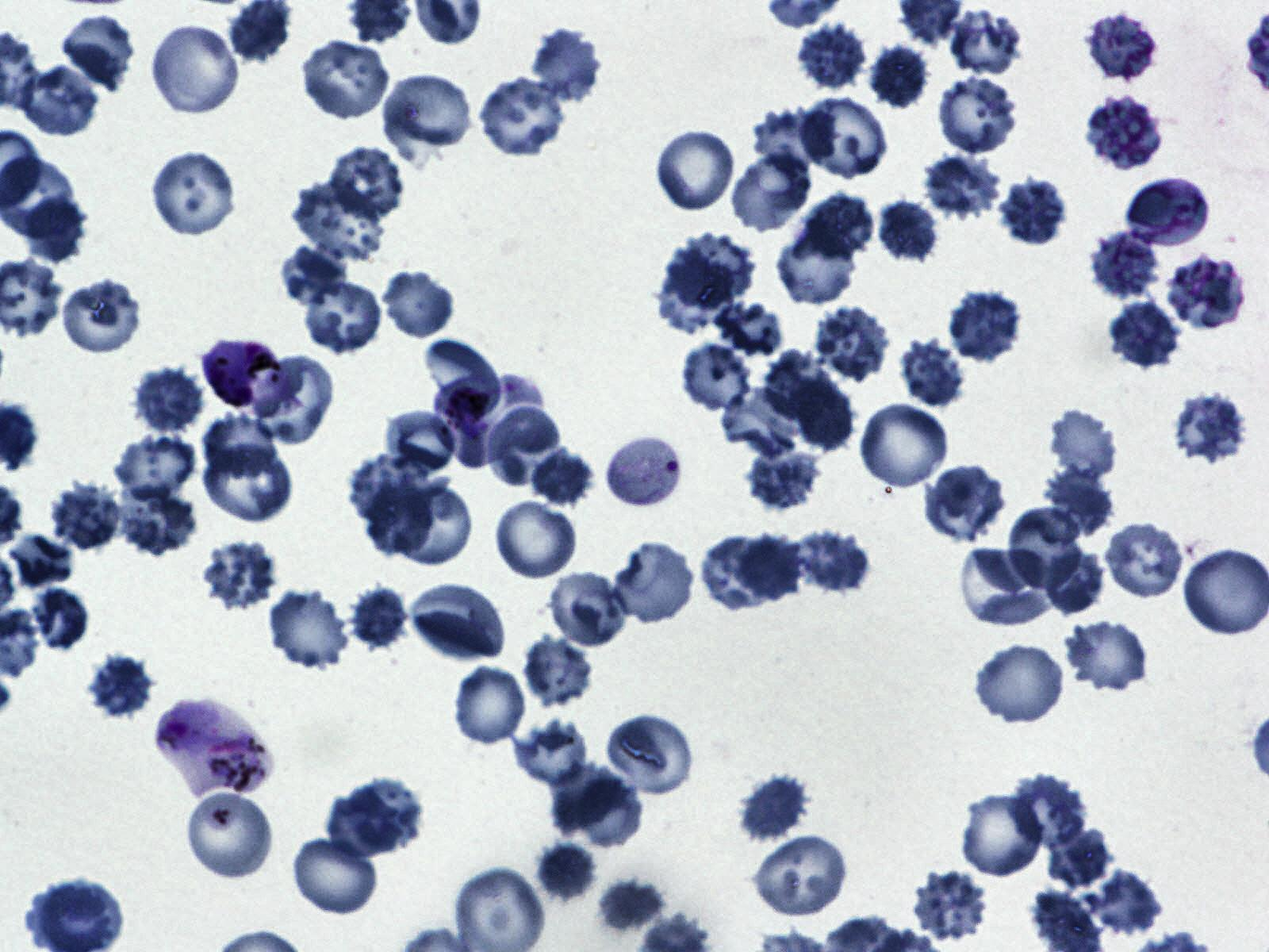Infected: (156, 697, 272, 798), (435, 374, 511, 467), (607, 436, 683, 511), (205, 342, 289, 404)
Uninfected: (182, 787, 274, 883), (858, 399, 952, 492), (148, 22, 240, 116), (752, 831, 852, 917), (379, 72, 476, 158), (248, 355, 335, 450), (148, 148, 240, 237), (796, 95, 891, 180), (408, 581, 504, 664), (201, 440, 297, 522), (602, 712, 693, 798), (976, 642, 1068, 727), (300, 37, 393, 120), (289, 837, 382, 919), (477, 77, 570, 159), (957, 791, 1043, 879), (654, 126, 740, 213), (613, 539, 697, 628), (558, 769, 646, 853), (292, 181, 385, 259), (961, 545, 1050, 626), (925, 463, 1010, 546), (493, 505, 581, 585), (332, 779, 422, 857), (935, 74, 1021, 155), (59, 275, 145, 356), (731, 149, 814, 232), (778, 225, 860, 308), (110, 431, 201, 505), (549, 568, 632, 649), (1105, 521, 1189, 601), (1082, 93, 1166, 173), (1064, 613, 1149, 692), (1125, 175, 1212, 251), (1171, 251, 1250, 333), (1166, 383, 1246, 463), (56, 11, 137, 90), (450, 665, 528, 747), (268, 589, 347, 669), (523, 25, 604, 103), (396, 487, 476, 565), (1008, 507, 1082, 591), (665, 236, 755, 305), (814, 305, 892, 384), (918, 151, 1006, 221), (656, 248, 732, 329), (19, 62, 102, 136), (487, 406, 561, 489), (347, 453, 431, 525), (324, 149, 404, 224), (744, 440, 826, 512), (737, 768, 813, 845), (721, 386, 803, 457), (755, 106, 838, 175), (305, 282, 384, 354), (764, 347, 838, 423), (131, 363, 208, 436), (1089, 6, 1162, 83), (948, 288, 1023, 361), (681, 339, 753, 413), (383, 267, 454, 342), (1039, 466, 1115, 536), (48, 482, 126, 550), (512, 721, 588, 789), (789, 376, 856, 453), (1011, 775, 1082, 847), (866, 40, 935, 114), (366, 484, 437, 555), (521, 639, 593, 709), (1091, 228, 1164, 297), (203, 413, 278, 480), (1048, 406, 1118, 477), (872, 197, 941, 269), (388, 410, 460, 479), (803, 196, 877, 263), (1089, 870, 1165, 935), (117, 493, 196, 555), (203, 541, 275, 609), (912, 873, 984, 941), (700, 538, 765, 613), (950, 8, 1021, 75), (1111, 301, 1181, 367), (347, 583, 412, 651), (23, 192, 85, 263), (794, 529, 867, 589), (799, 21, 864, 88), (281, 243, 347, 308), (85, 653, 152, 717), (1048, 829, 1116, 892), (737, 536, 803, 599), (535, 836, 596, 904), (1046, 550, 1104, 619), (1004, 176, 1065, 241), (903, 340, 964, 405), (528, 444, 592, 504), (31, 586, 90, 651), (714, 300, 782, 356), (600, 879, 669, 933)
